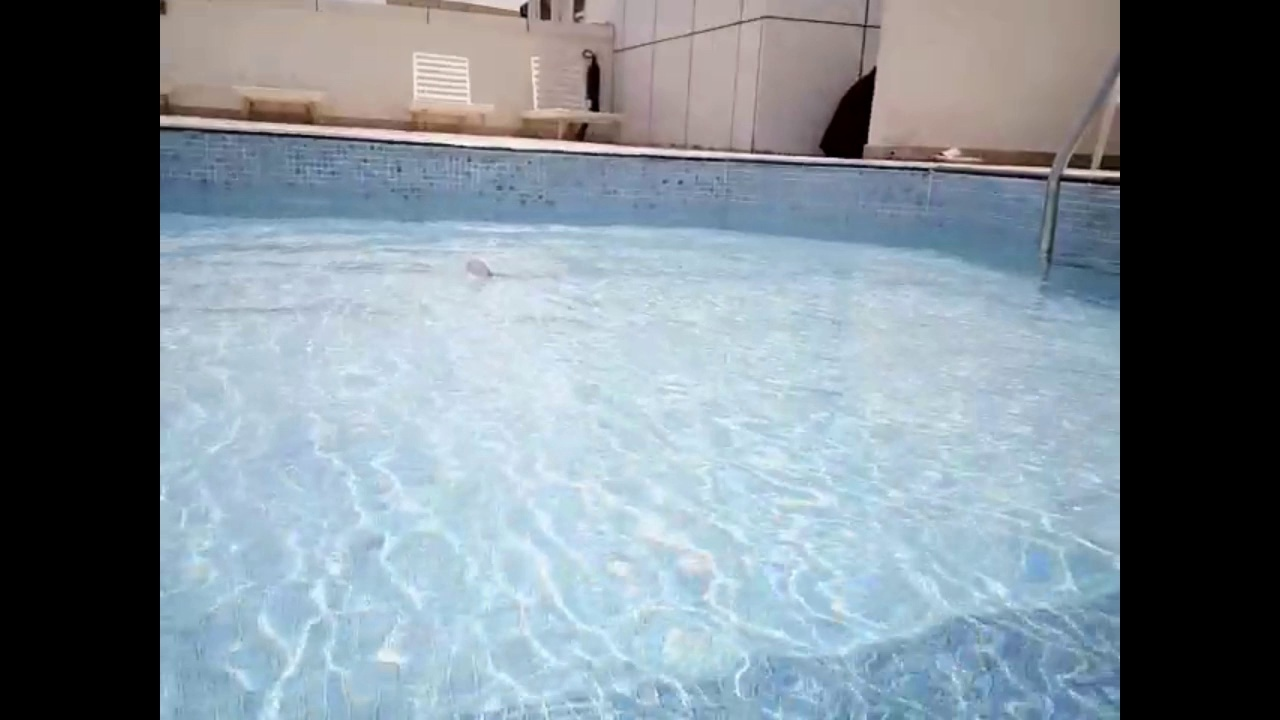debris: (457, 254, 502, 287)
